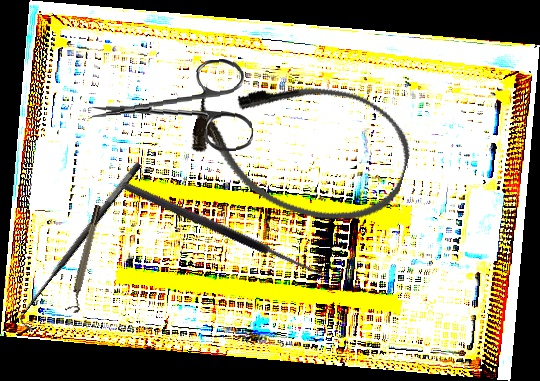Cannula: (179, 53, 422, 239)
Fixation Ring: (65, 204, 107, 314)
Hook Surgical: (9, 159, 155, 335), (120, 170, 333, 282)
Iris Scissors: (86, 57, 255, 161)
